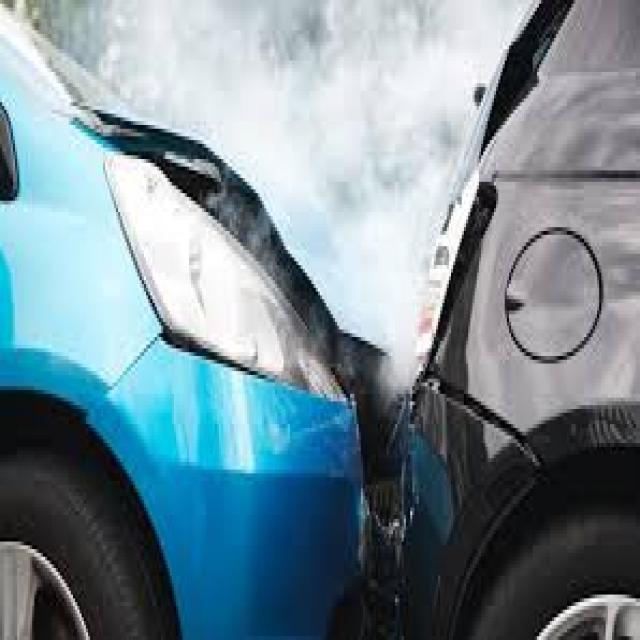accident: (97, 36, 564, 628)
